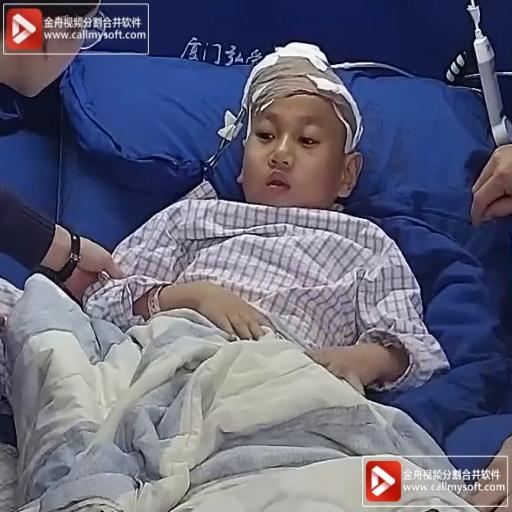Seizure: (216, 32, 357, 232), (223, 40, 364, 240)
